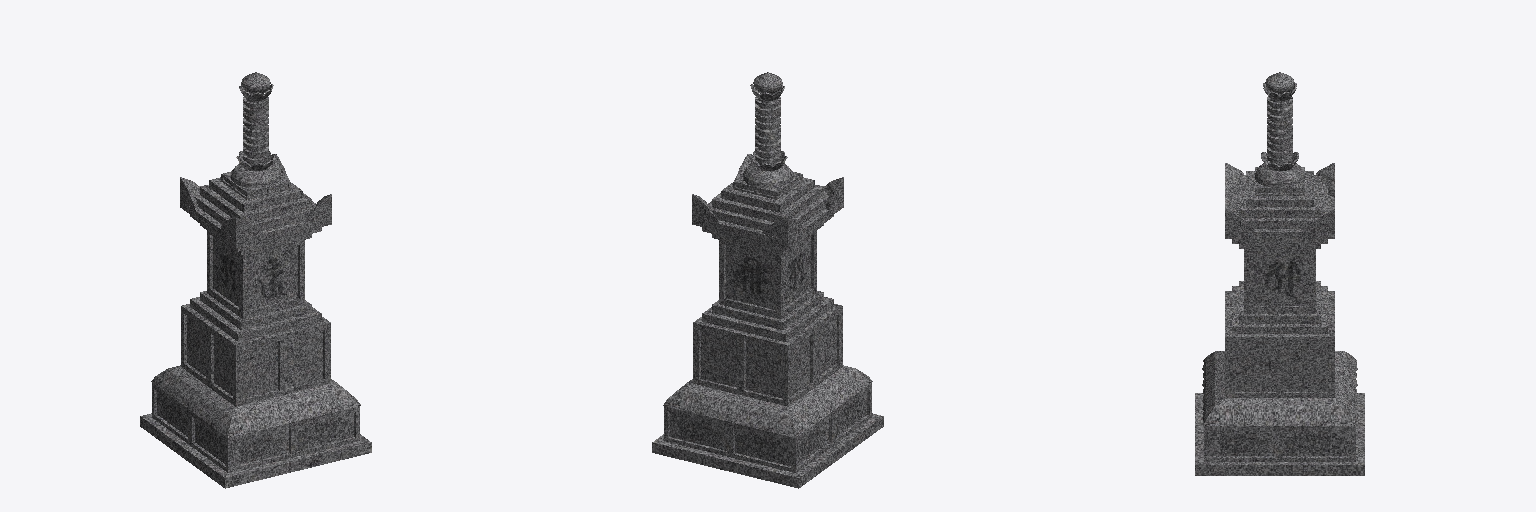
The picture shows the model from 3 angles: view 1: azimuth 30°, elevation 25°; view 2: azimuth 150°, elevation 25°; view 3: azimuth 270°, elevation 25°; orthographic projection.
Visible parts, largest first — view 1: obj4, obj2, obj6, obj3, obj1, obj8, obj5, obj7, obj13, obj9, obj11, obj10; view 2: obj4, obj2, obj6, obj3, obj1, obj8, obj5, obj7, obj13, obj9, obj11, obj10; view 3: obj4, obj3, obj2, obj6, obj8, obj1, obj5, obj7, obj13, obj9, obj11.
Part boxes in pixels (x1,y1,x2,y2): obj4: (181, 304, 330, 406); obj2: (152, 383, 359, 472); obj6: (207, 231, 304, 318); obj3: (151, 365, 360, 437); obj1: (140, 413, 371, 488); obj8: (195, 177, 316, 230); obj5: (190, 291, 321, 341); obj7: (180, 200, 331, 254); obj13: (243, 93, 268, 165); obj9: (180, 154, 331, 239); obj11: (231, 163, 280, 187); obj10: (221, 171, 290, 199); obj4: (693, 304, 842, 406); obj2: (664, 383, 871, 472); obj6: (719, 231, 816, 318); obj3: (663, 365, 872, 437); obj1: (652, 413, 883, 488); obj8: (707, 177, 828, 230); obj5: (702, 291, 833, 341); obj7: (692, 200, 843, 254); obj13: (755, 93, 780, 165); obj9: (692, 154, 843, 239); obj11: (743, 163, 792, 187); obj10: (733, 171, 802, 199); obj4: (1225, 291, 1334, 397); obj3: (1202, 351, 1357, 425); obj2: (1204, 426, 1355, 461); obj6: (1244, 249, 1315, 313); obj8: (1232, 171, 1327, 228); obj1: (1195, 393, 1364, 475); obj5: (1232, 281, 1327, 333); obj7: (1225, 195, 1334, 248); obj13: (1267, 97, 1292, 165); obj9: (1225, 163, 1334, 231); obj11: (1255, 163, 1304, 187).
Size of the model in its own units: 200 by 479 by 200.
1 materials, 1 textured.